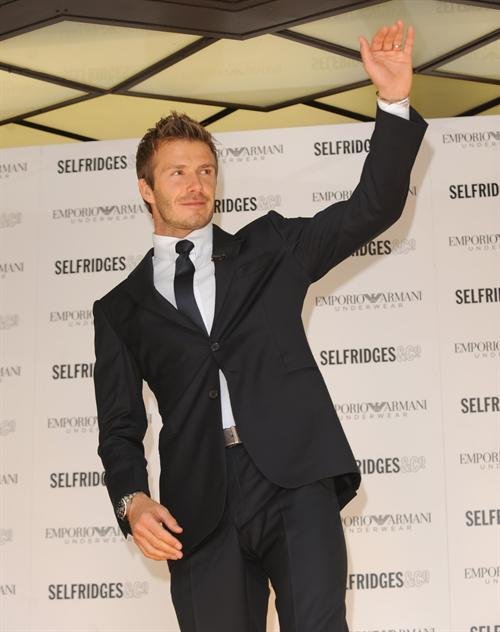person: (94, 20, 415, 632)
